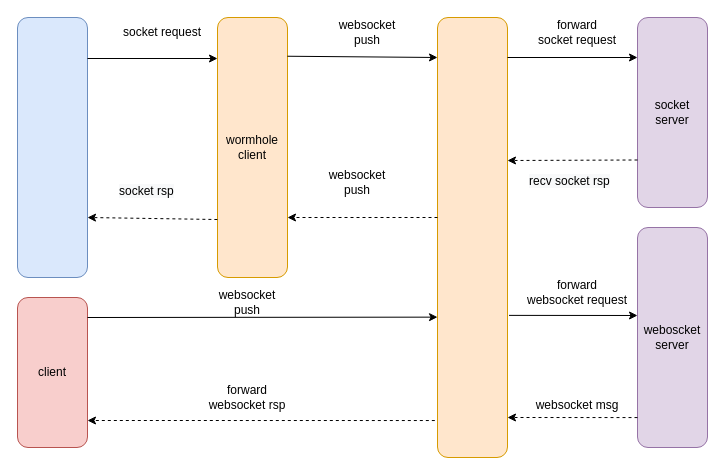
Image size: 725x475. Some labels were removed from this diagram. The shapes that lost their labels are listed below. From the top down, each one's centre as x and y in pixels, then its label:
At point (52, 147): "browser".
At point (472, 237): "wormhole server".
